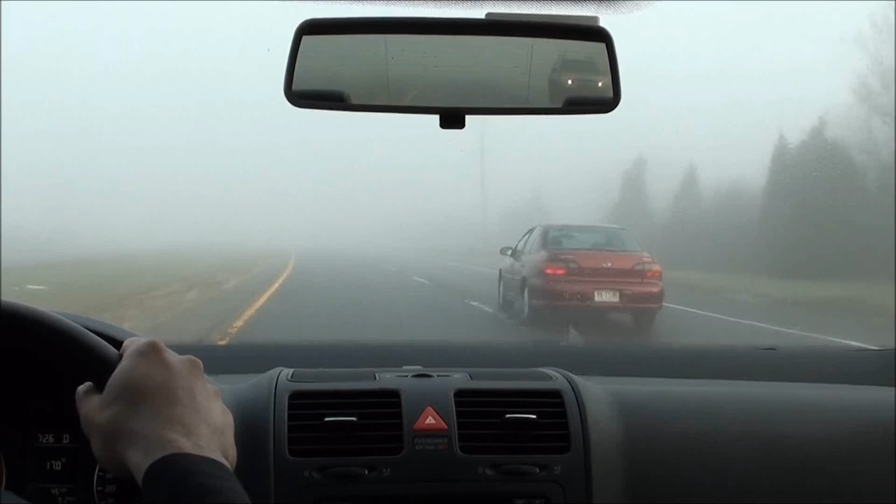car: (494, 223, 668, 335)
